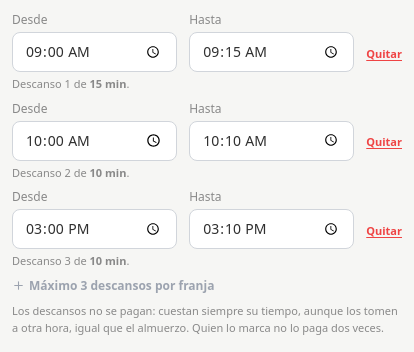
Scenario: ListaDeDescansos › quitar el segundo deja el primero y el tercero en su orden
Click the button with aria-label "Quitar el descanso 2". click: coordinates (384, 142)
box: [366,134,402,150]
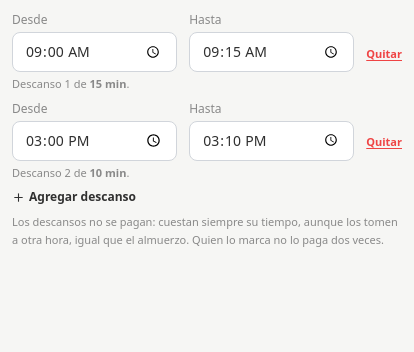
expect the time field named "Descanso 2 desde" holds "15:00": met, box [12,120,177,160]
